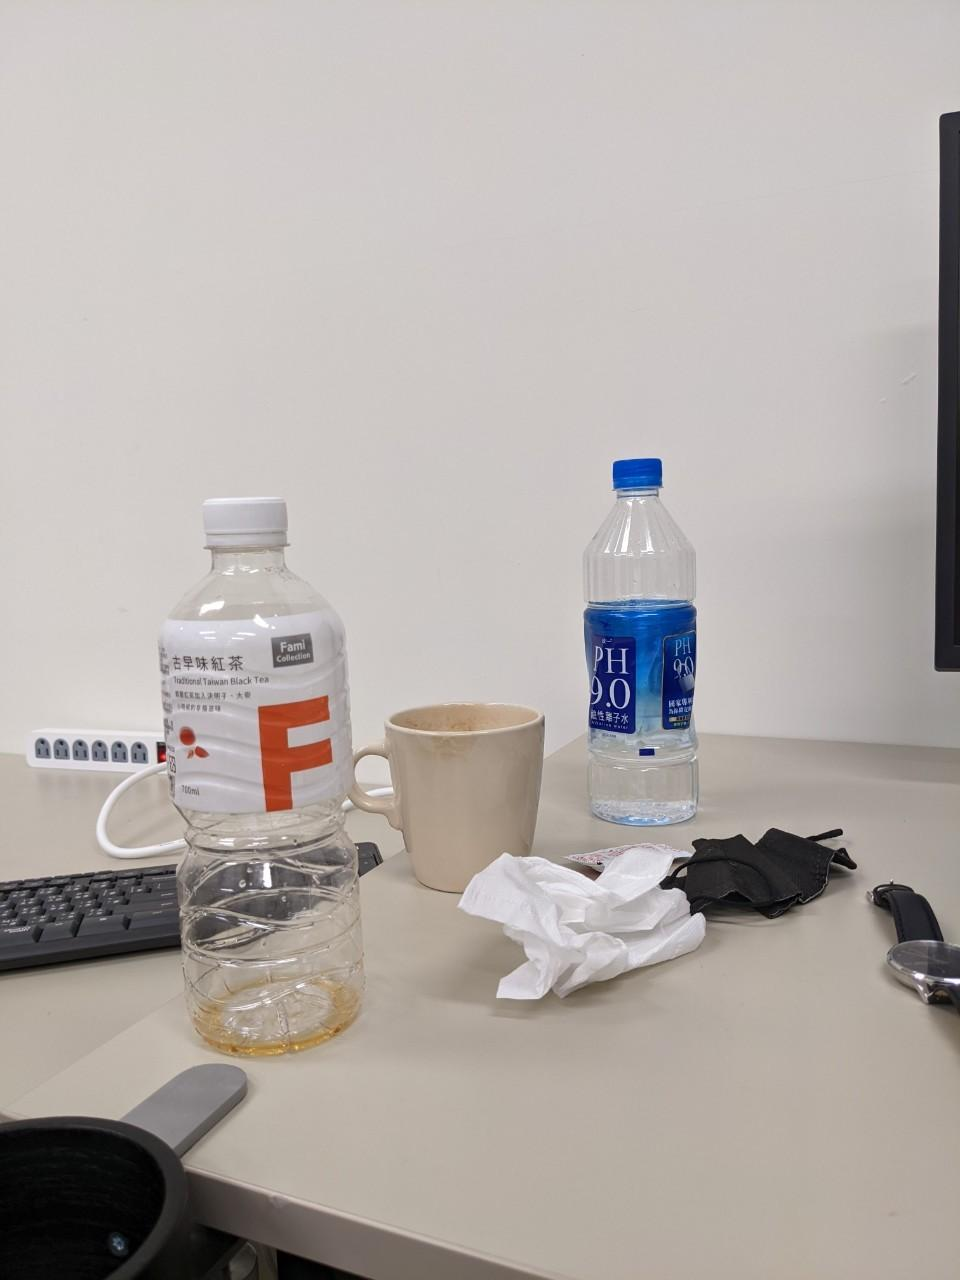BIODEGRADABLE: (148, 483, 389, 1058), (567, 438, 721, 828)
